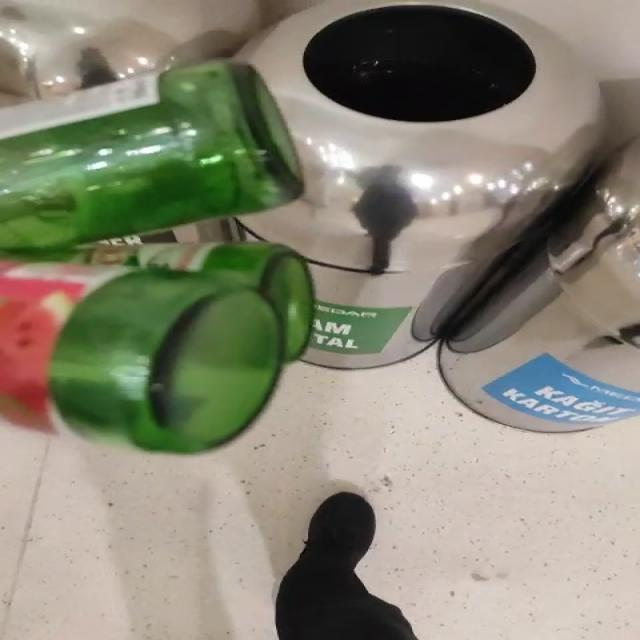Bin: (240, 0, 640, 432)
Glass: (0, 60, 313, 454)
